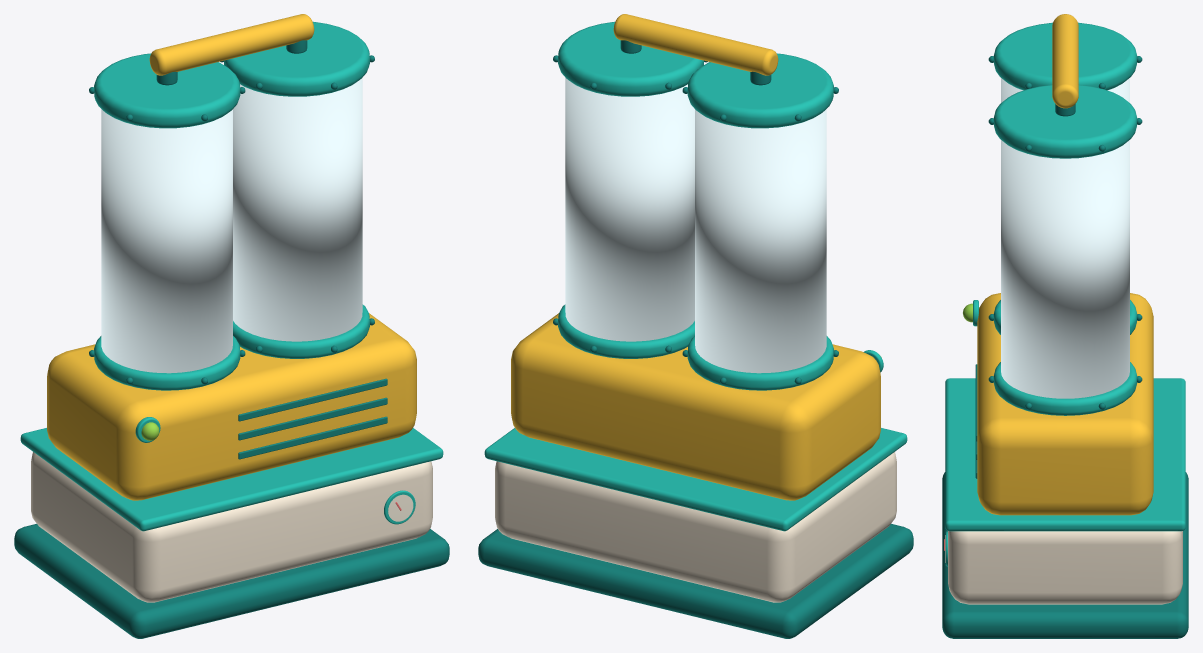
The model's file is GenTwin.fbx.
3 views of the same model, side by side, from view 1: azimuth 30°, elevation 25°; view 2: azimuth 150°, elevation 25°; view 3: azimuth 270°, elevation 25° (orthographic).
Visible parts, largest first — view 1: GenTwin mesh; view 2: GenTwin mesh; view 3: GenTwin mesh.
Boxes of the visible parts, x1,y1,x2,y2 form: GenTwin mesh: (14, 14, 449, 638); GenTwin mesh: (478, 14, 913, 638); GenTwin mesh: (942, 14, 1188, 638).
Size of the model in its own units: 1.23 by 1.95 by 0.84.
